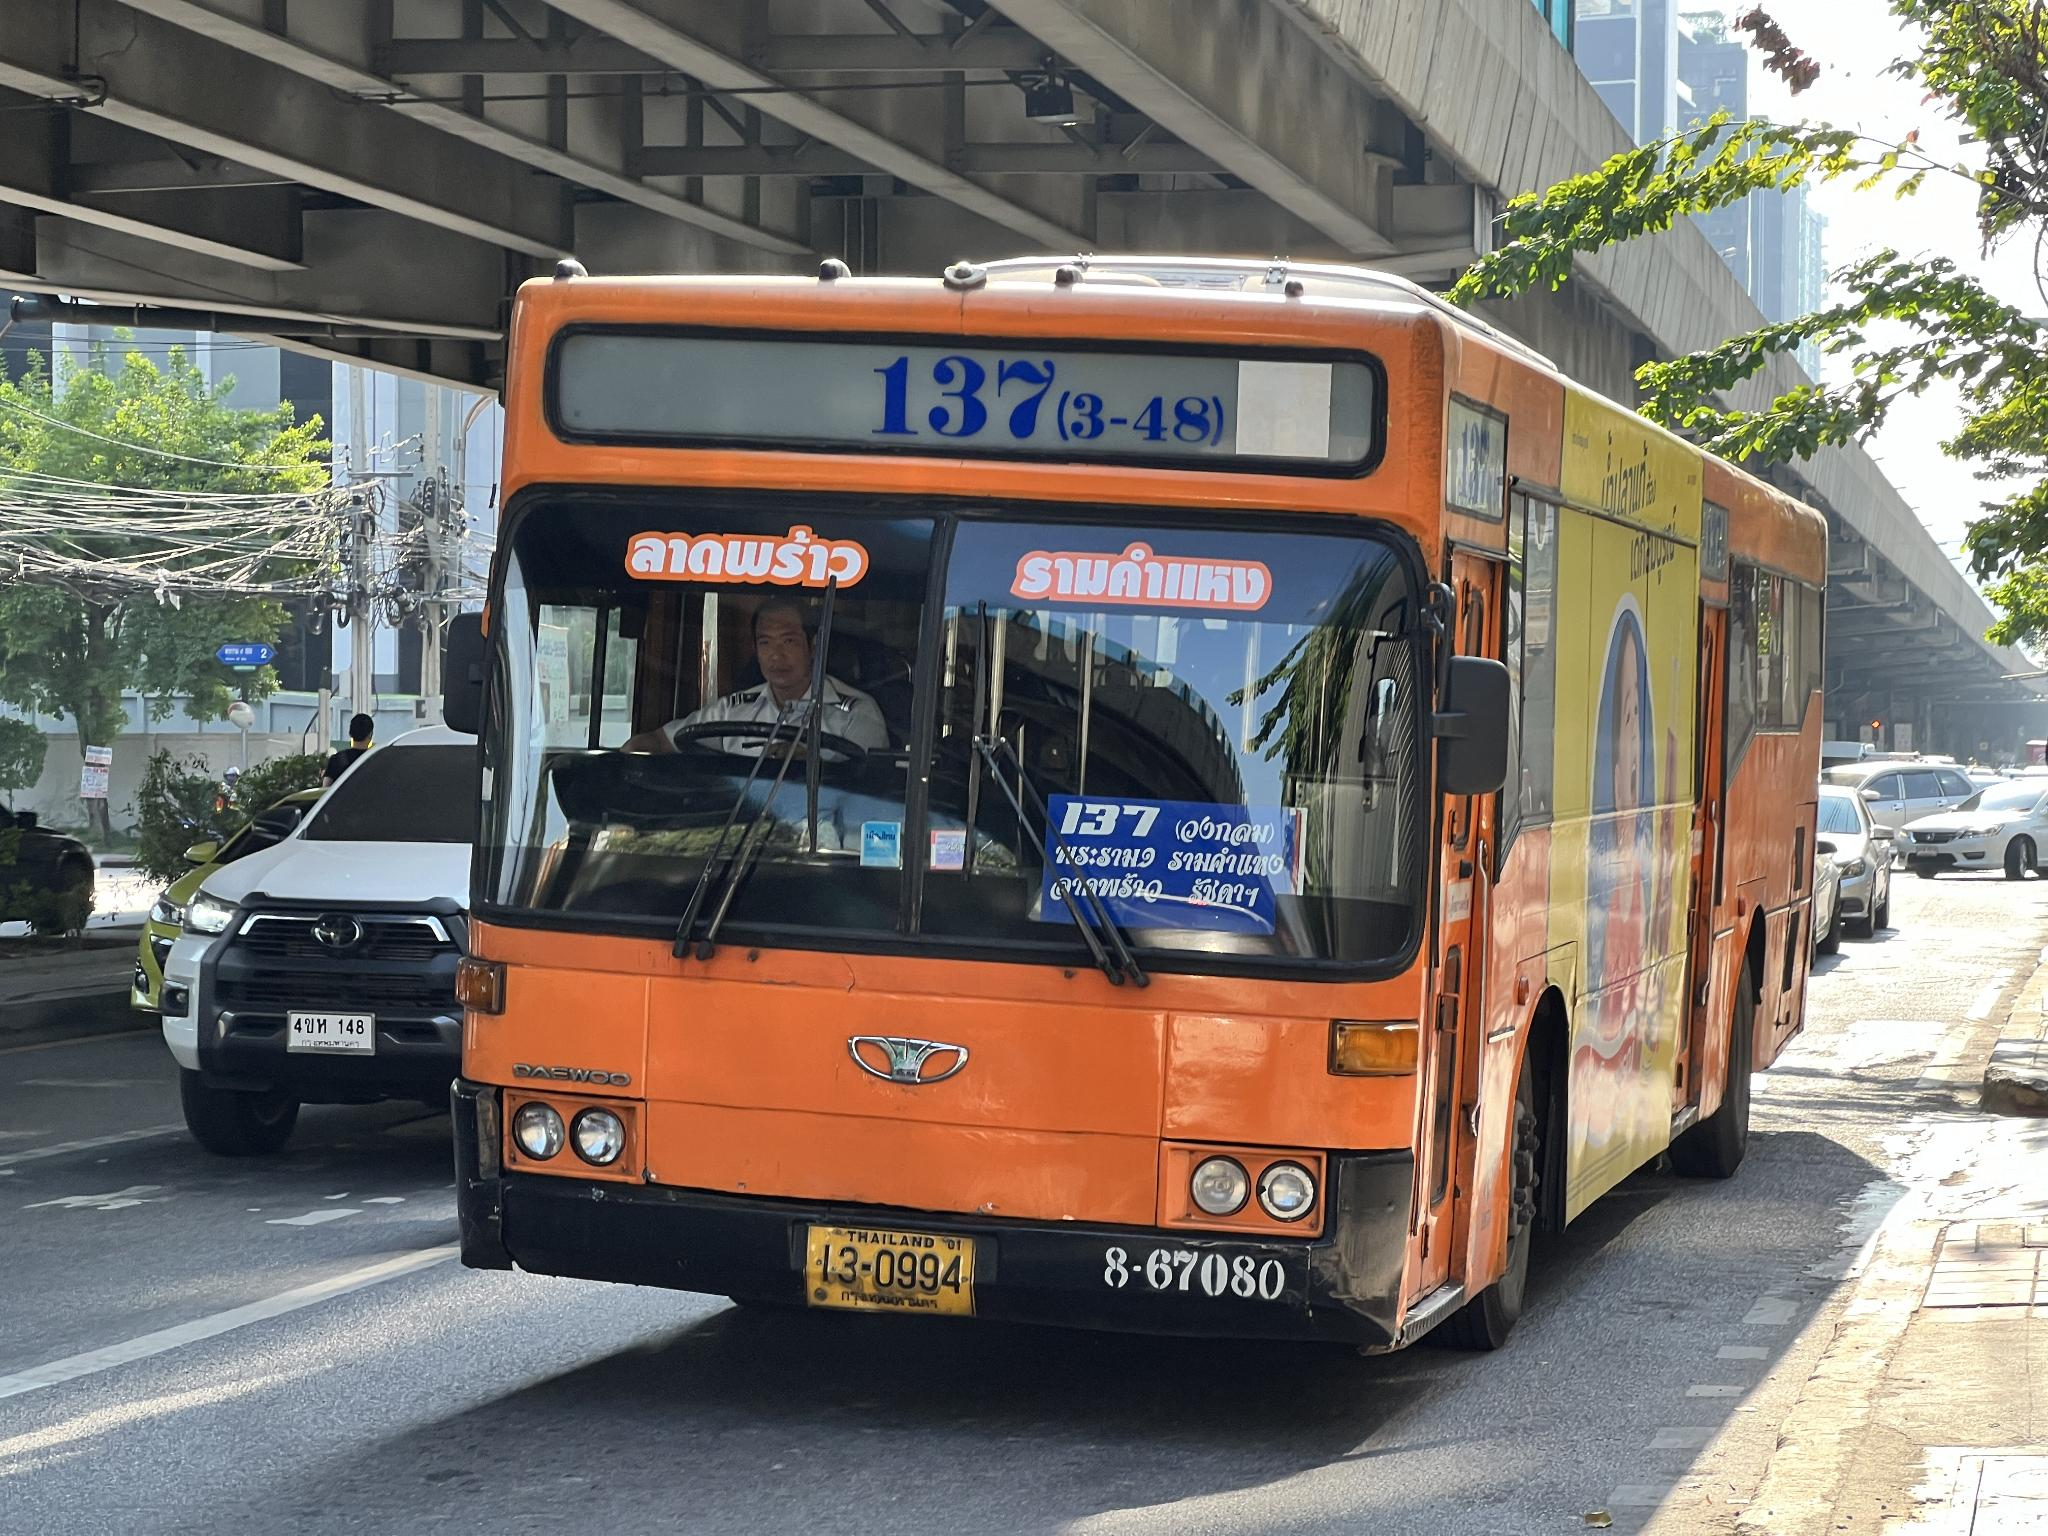BMTA-bus: (447, 260, 1832, 1363)
Bus Line Number: (850, 349, 1232, 457)
Bus Side Number: (1082, 1236, 1293, 1315)
Destination Sign: (1045, 794, 1290, 941)
